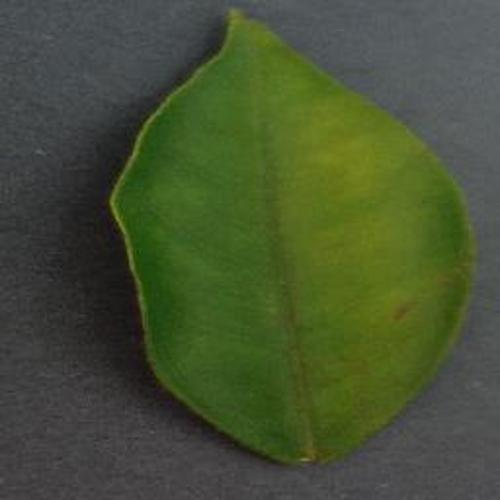Orange: (112, 8, 472, 467)
